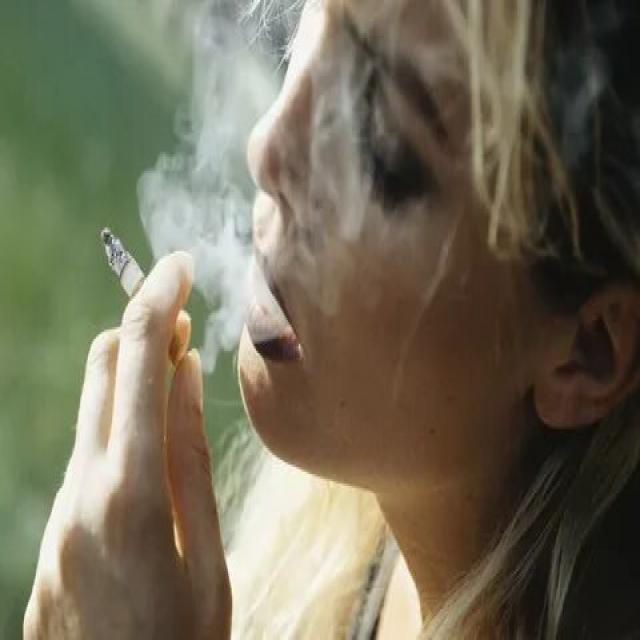cigarette: (97, 218, 188, 375)
